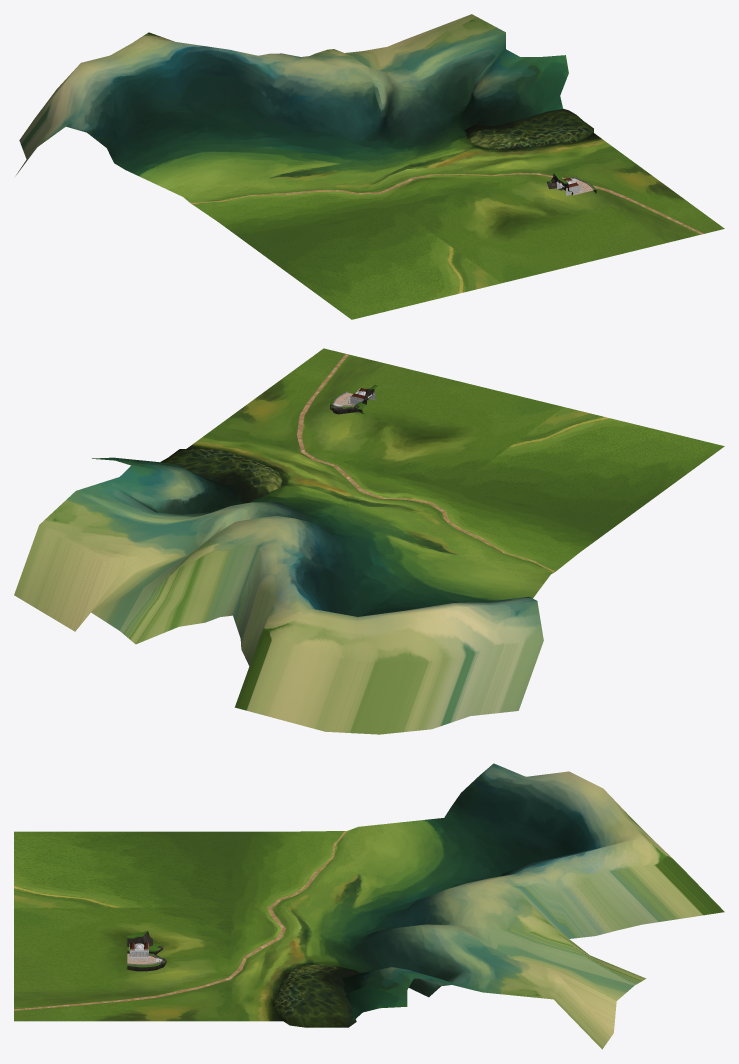
File: skytrainArea1_gr.fbx
3 views of the same model, one above another, from view 1: azimuth 30°, elevation 25°; view 2: azimuth 150°, elevation 25°; view 3: azimuth 270°, elevation 25° (orthographic). The views are drawn at different scales.
Visible parts, largest first — view 1: Cube, Cube.001; view 2: Cube, Cube.001; view 3: Cube, Cube.001.
Boxes of the visible parts, x1=… form: Cube: x1=16, y1=14, x2=724, y2=319; Cube.001: x1=546, y1=172, x2=596, y2=195; Cube: x1=14, y1=348, x2=724, y2=734; Cube.001: x1=330, y1=385, x2=378, y2=414; Cube: x1=14, y1=763, x2=724, y2=1049; Cube.001: x1=127, y1=930, x2=166, y2=971.
Bounding box in the file's own units: 23119 × 4107 × 28712.
